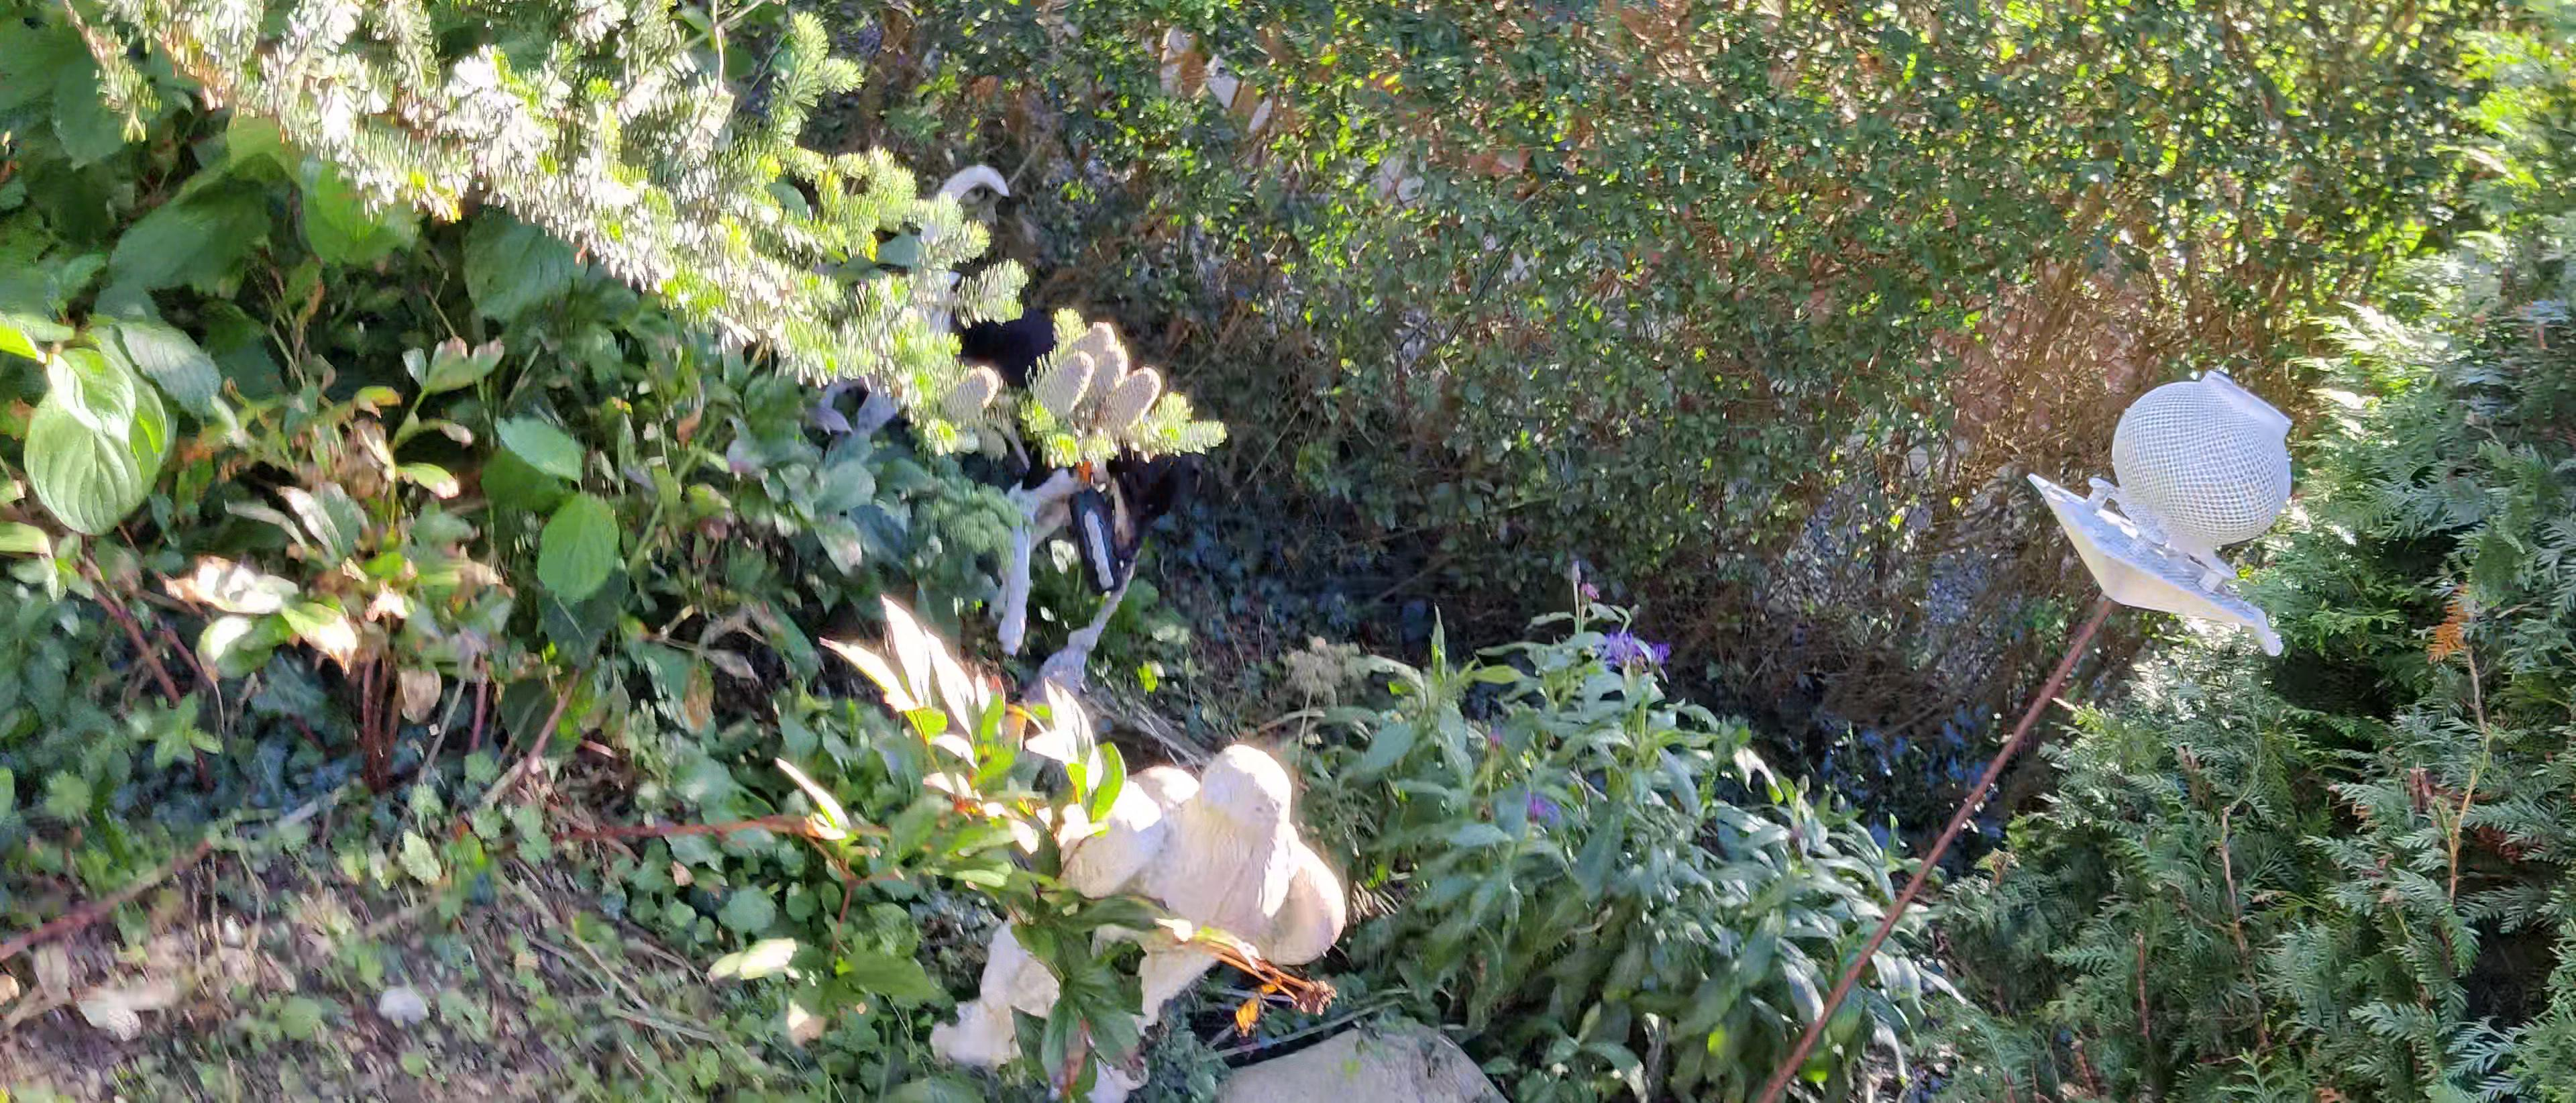Dog: (820, 159, 1201, 654)
